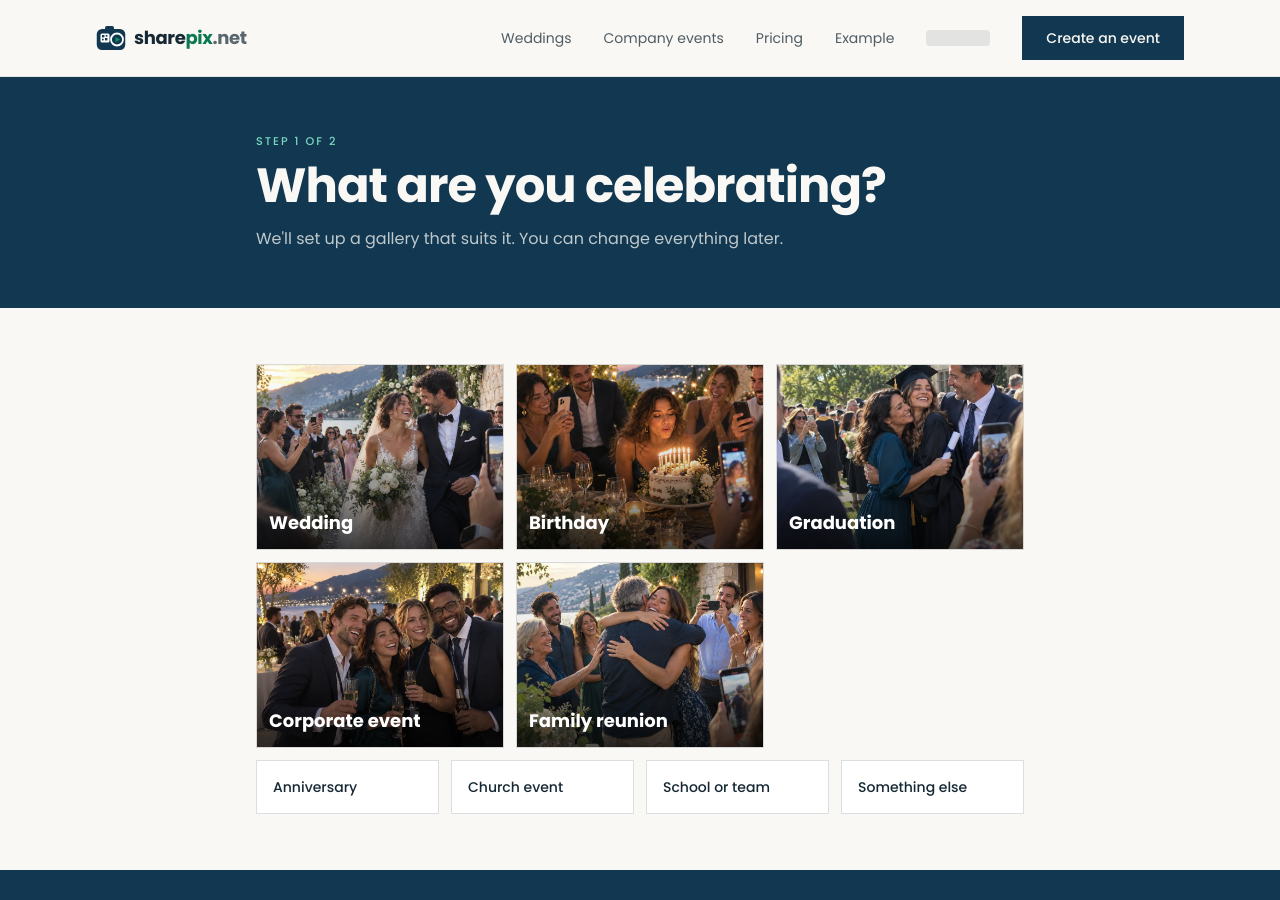
Test case: creating an event › shows the name in the look preview as it is typed
The width and height of the screenshot is (1280, 900).
Click the button "Birthday" at (640, 457), box top-left (516, 364), bottom-right (764, 550)
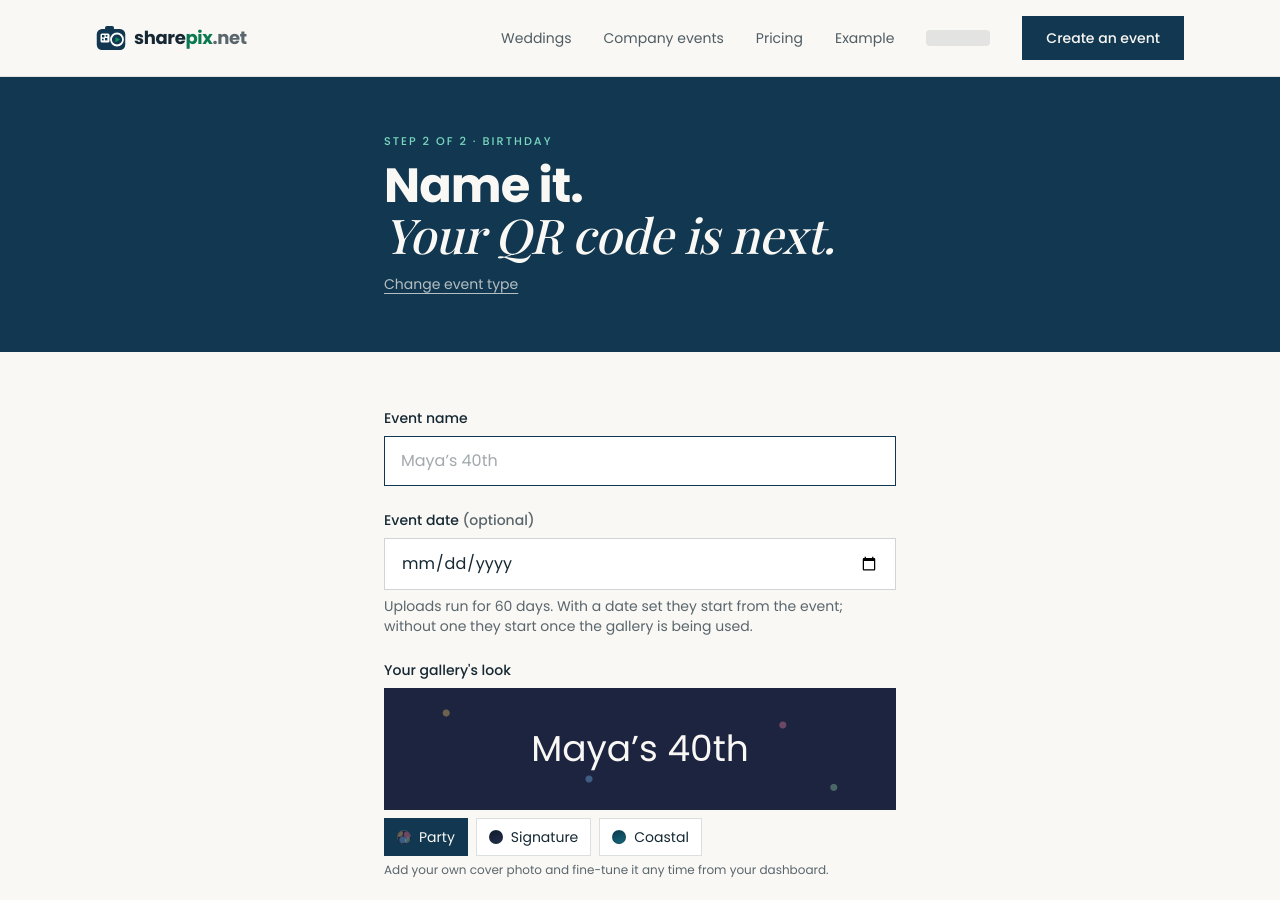
Type "Ana Turns 30" into the field labelled "Event name" at (640, 461), box top-left (384, 436), bottom-right (896, 486)
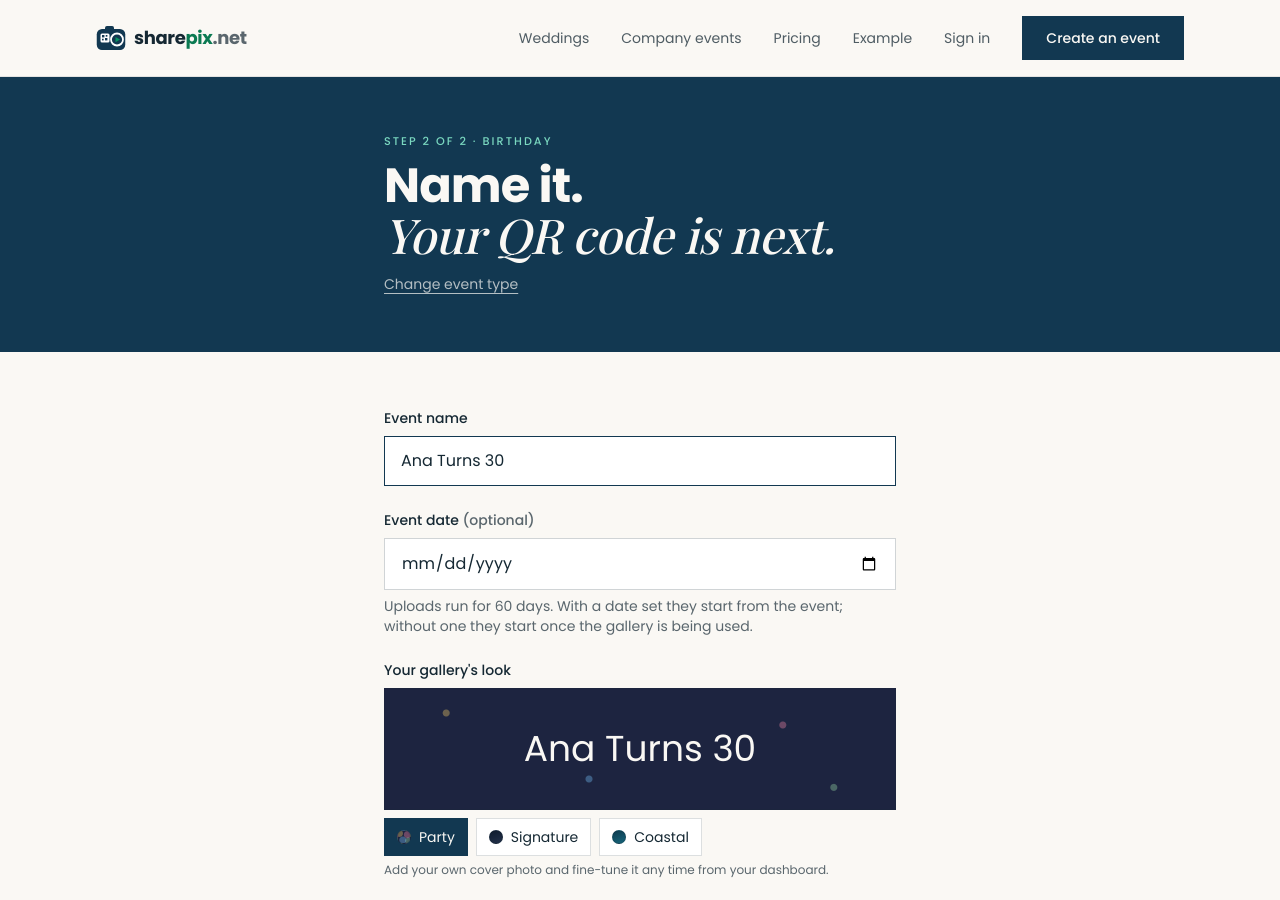
Expected: the text "Ana Turns 30" is shown, top-left (524, 723), bottom-right (756, 774)
